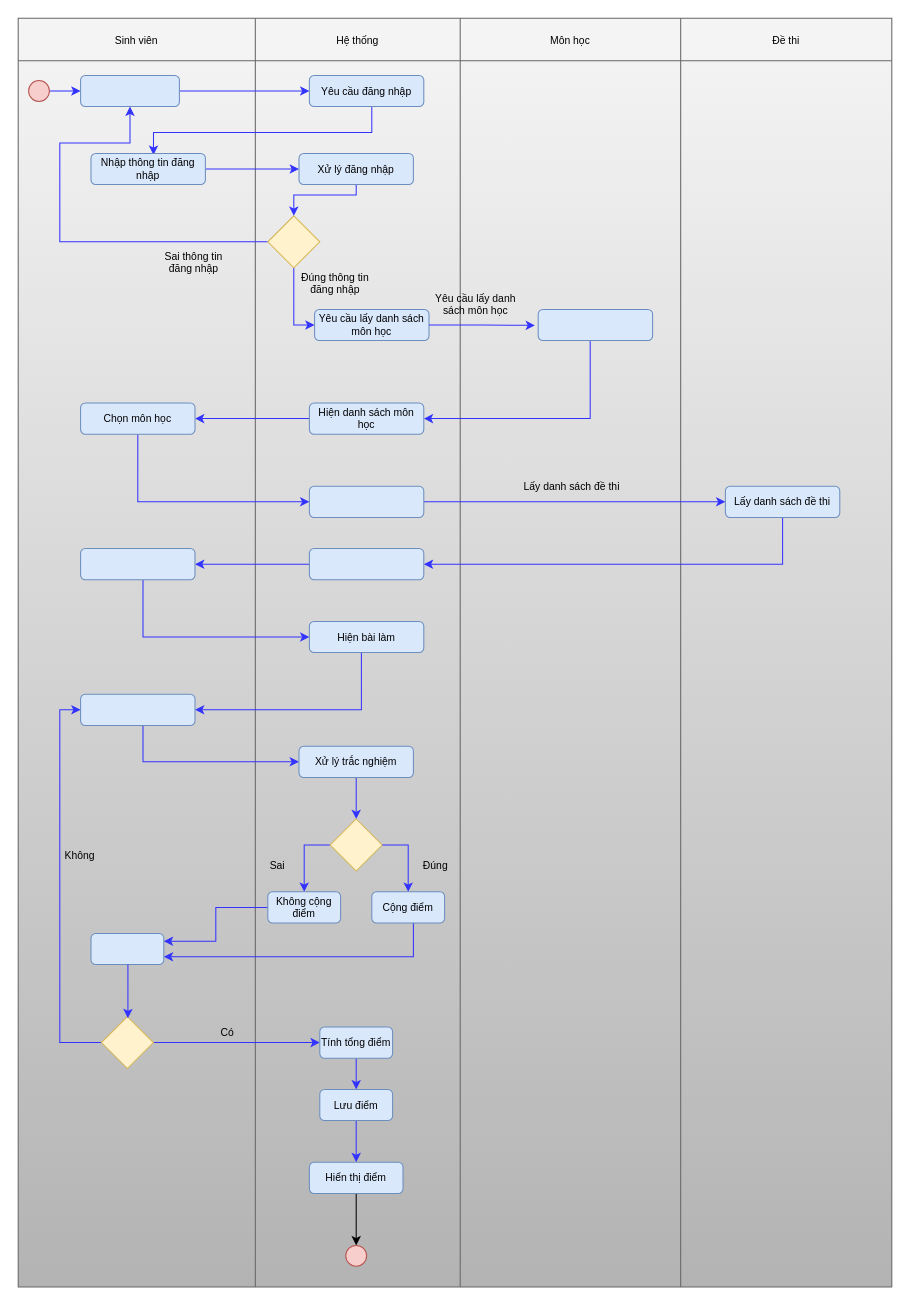
Some shapes in this 910 by 1305 pixel diagram are drawn without their labels. Each missing label, with the centre of its shape:
"Bắt đầu phiên" goes at point (129, 90).
"Chọn đáp án" goes at point (137, 709).
"Chọn đề thi" goes at point (137, 564).
"Hiện danh sách đề thi" goes at point (366, 564).
"Lấy danh sách môn học" goes at point (595, 324).
"Nộp bài" goes at point (127, 948).
"Yêu cầu lấy danh sách đề thi thuộc môn học" goes at point (366, 501).
